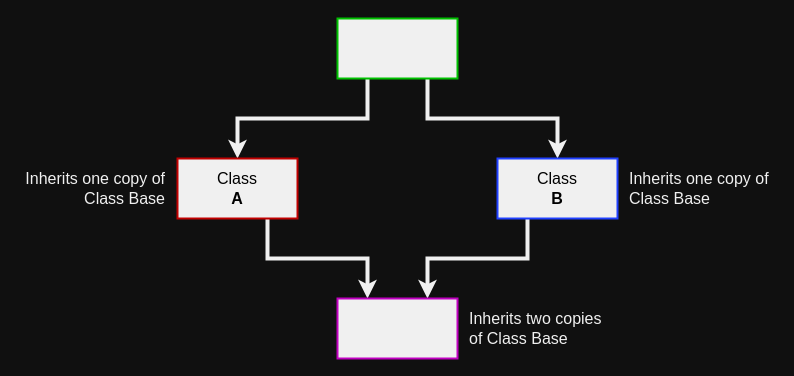
This 794x376 diagram has some shape labels left out. The box of each missing label's shape, as (x1, y1, x2, y2) in pixels:
Class Base: (336, 17, 458, 79)
Class C: (336, 297, 458, 359)
